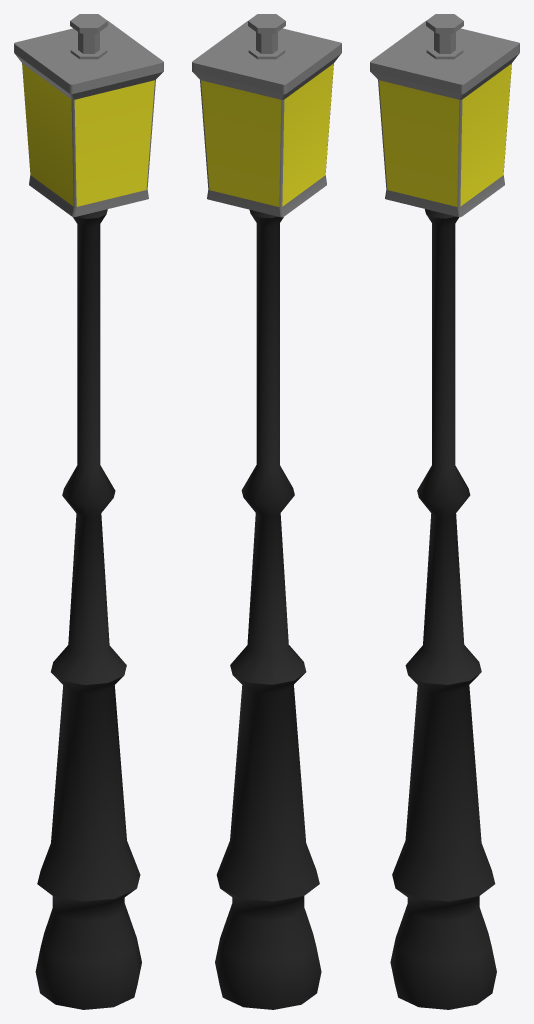
The model's file is Poste_Lampiao.fbx.
The picture shows the model from 3 angles, left to right: view 1: azimuth 30°, elevation 25°; view 2: azimuth 150°, elevation 25°; view 3: azimuth 330°, elevation 25°; orthographic projection.
Parts seen in each view (by area): view 1: Poste; view 2: Poste; view 3: Poste.
Part boxes in pixels (bbox=[...]): Poste: bbox=[14, 14, 163, 1009]; Poste: bbox=[192, 14, 341, 1009]; Poste: bbox=[370, 14, 519, 1009].
Bounding box in the file's own units: 25.09 × 247 × 26.65.
